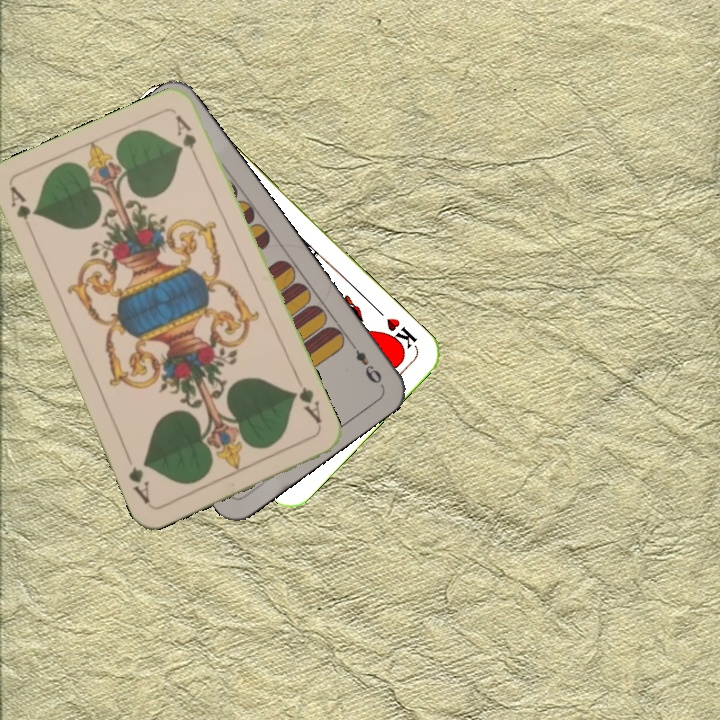E9: (345, 337, 385, 387)
GA: (288, 374, 324, 430), (6, 183, 34, 223)
HK: (373, 305, 419, 356)
